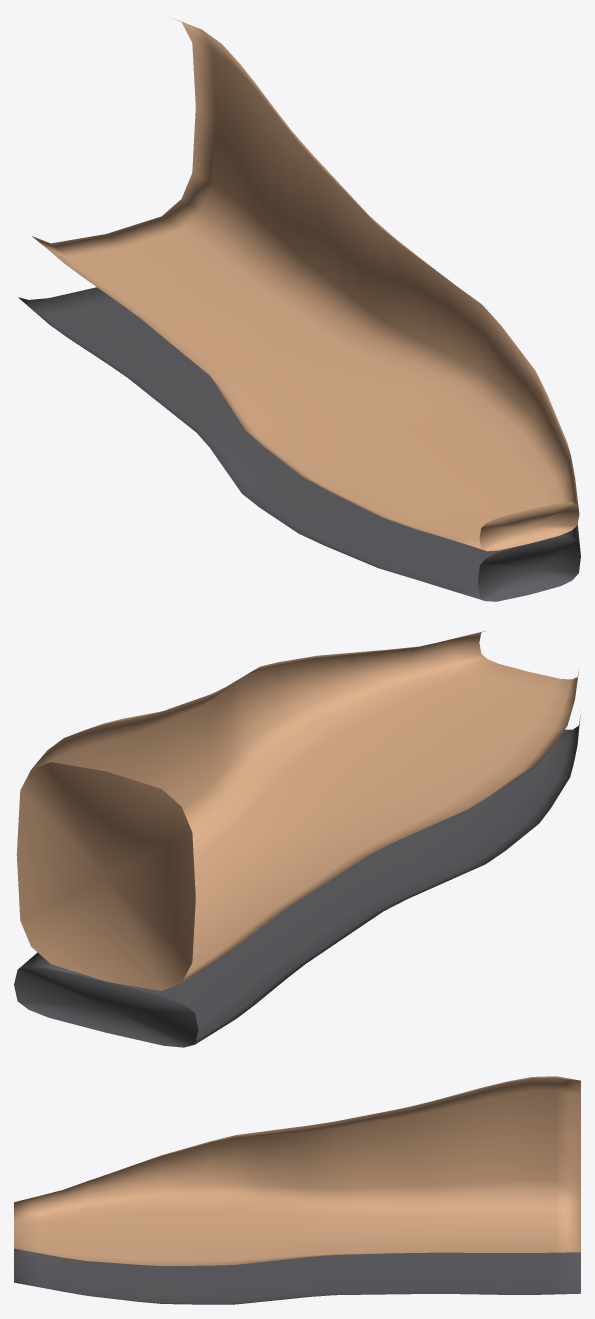
File: placeholder_shoe_draco.glb
The picture shows the model from 3 angles, top to bottom: view 1: azimuth 30°, elevation 25°; view 2: azimuth 150°, elevation 25°; view 3: azimuth 270°, elevation 25°; orthographic projection. The views are drawn at different scales.
Visible parts, largest first — view 1: placeholder_shoe; view 2: placeholder_shoe; view 3: placeholder_shoe.
Part boxes in pixels (x1=…): placeholder_shoe: x1=18, y1=15, x2=580, y2=601; placeholder_shoe: x1=14, y1=630, x2=580, y2=1047; placeholder_shoe: x1=14, y1=1076, x2=580, y2=1304.
Bounding box in the file's own units: 0.0943 × 0.0942 × 0.27.
